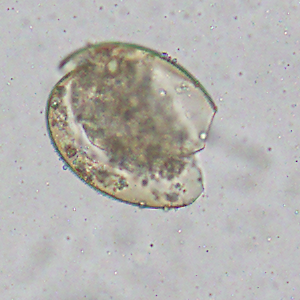Fasciola_hepatica_egg: (44, 40, 219, 210)
